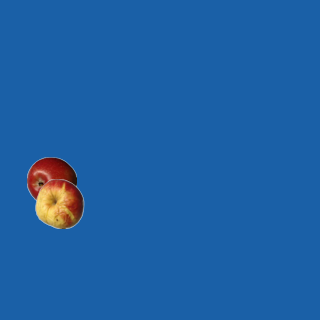Apple Braeburn: (26, 156, 76, 206)
Apple Red Yellow 1: (34, 178, 84, 228)
